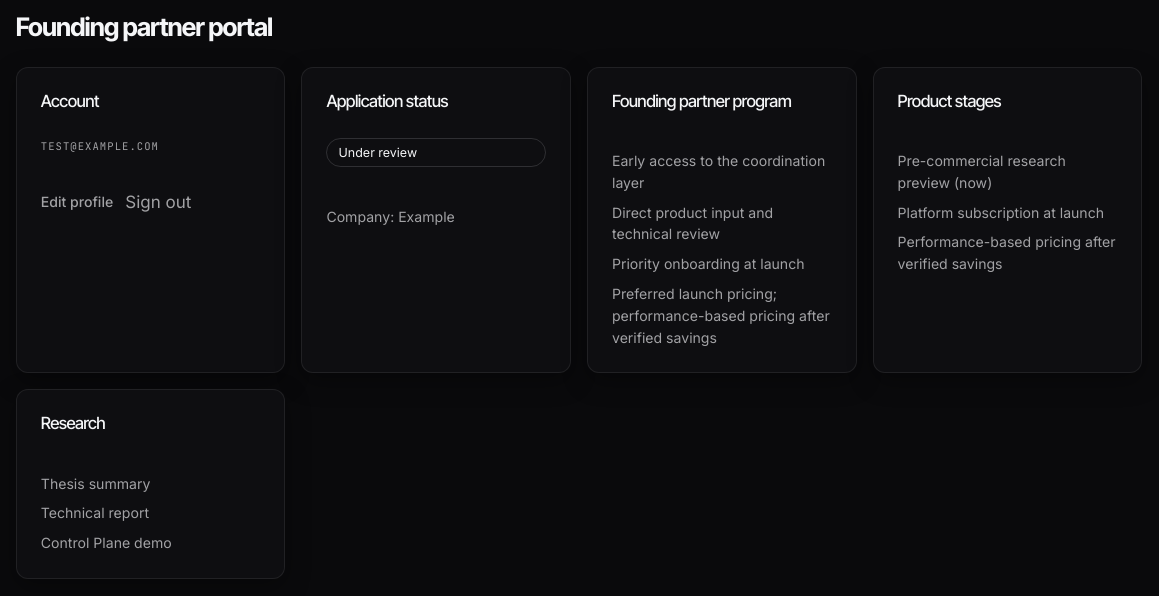
Test: account flow regressions › shows the actual reviewing status and does not hide failed sign-out
Expected: the text "Under review" is shown, [326, 138, 546, 167]
Click the button "Sign out": (158, 202) [125, 181, 191, 223]
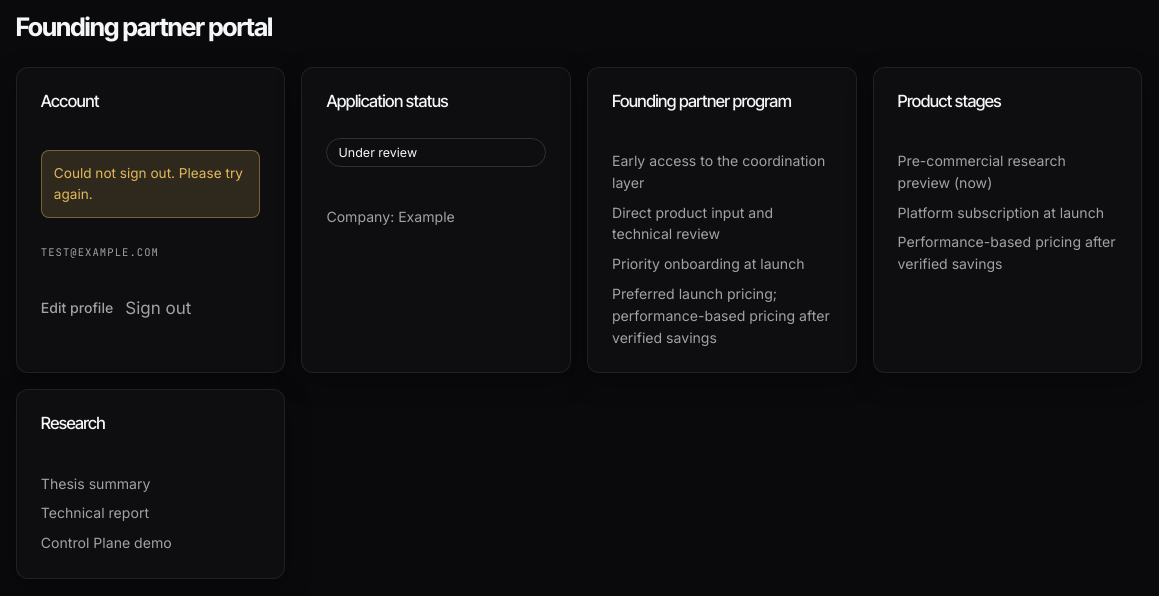
Result: the message shows "Could not sign out" at [54, 165, 243, 202]
